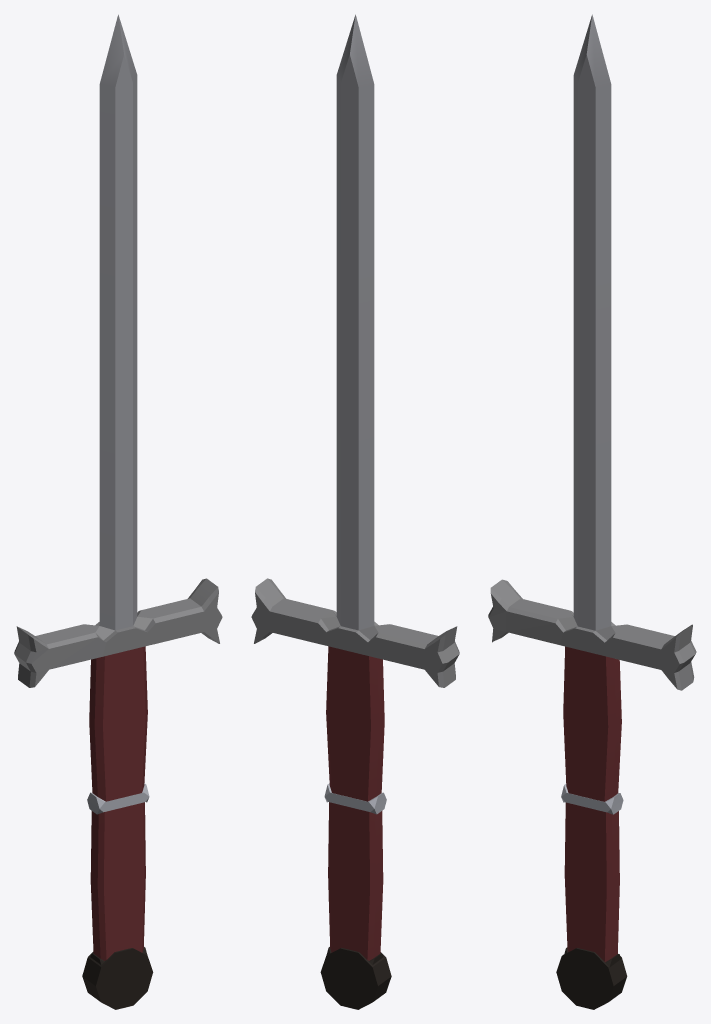
The model's file is EspadaPaladin.fbx.
The picture shows the model from 3 angles, left to right: view 1: azimuth 30°, elevation 25°; view 2: azimuth 150°, elevation 25°; view 3: azimuth 330°, elevation 25°; orthographic projection.
Visible parts, largest first — view 1: Espada; view 2: Espada; view 3: Espada.
Part boxes in pixels (x1,y1,x2,y2): Espada: [14, 14, 222, 1009]; Espada: [251, 14, 459, 1009]; Espada: [488, 14, 696, 1009].
Bounding box in the file's own units: 1.97 × 9.5 × 0.2937.
